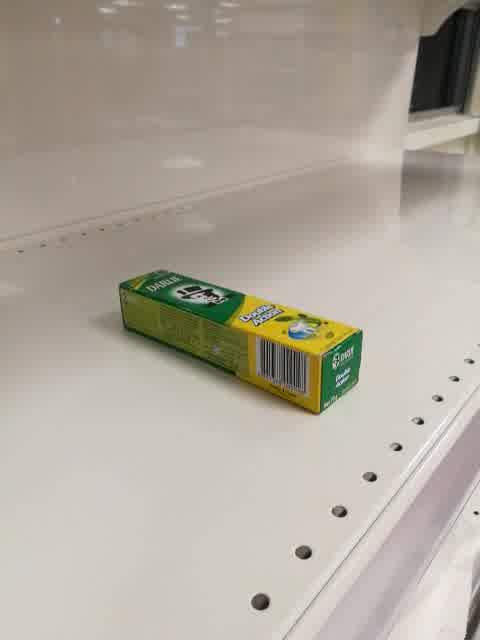toothpaste: (120, 270, 362, 417)
